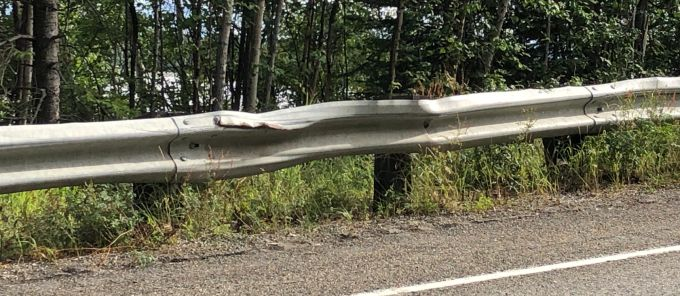damaged: (172, 96, 534, 179)
